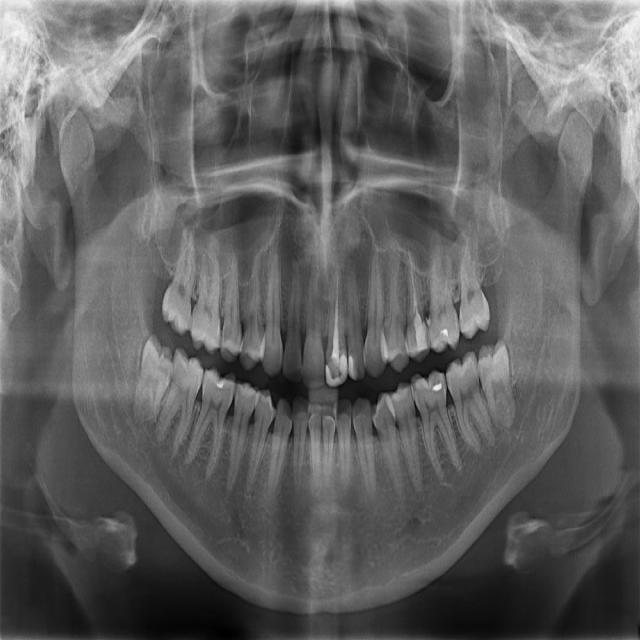Caries: (325, 271, 349, 388)
